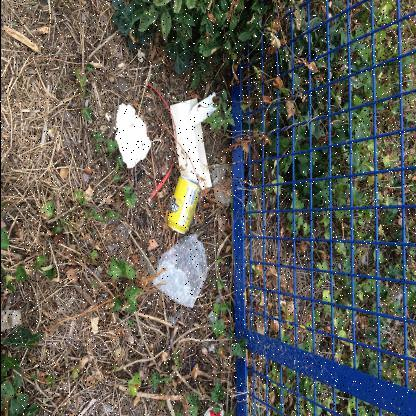cardboard: (169, 98, 211, 190)
metal: (166, 174, 200, 236)
other: (186, 92, 216, 126)
paper: (211, 165, 231, 206)
plastic: (152, 235, 206, 309)
